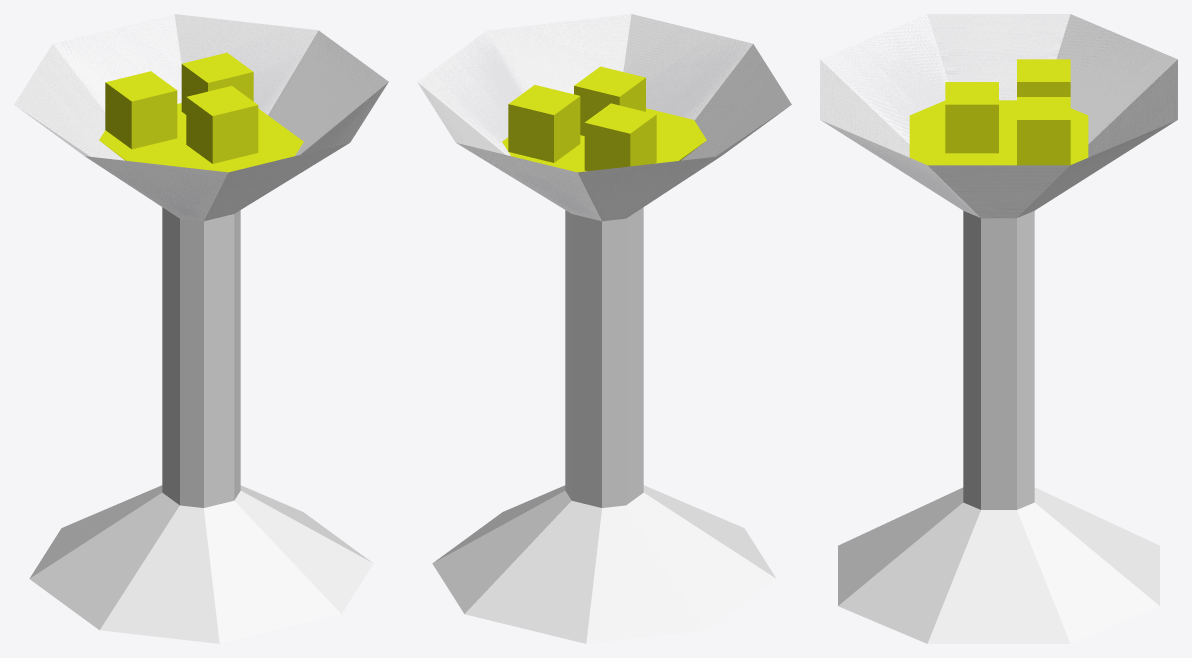
The model's file is inv_unfinished_cocktail_8.obj.
3 renders of one model, left to right at view 1: azimuth 30°, elevation 25°; view 2: azimuth 150°, elevation 25°; view 3: azimuth 270°, elevation 25°, orthographic.
Size of the model in its own units: 0.1562 by 0.2344 by 0.1562.
